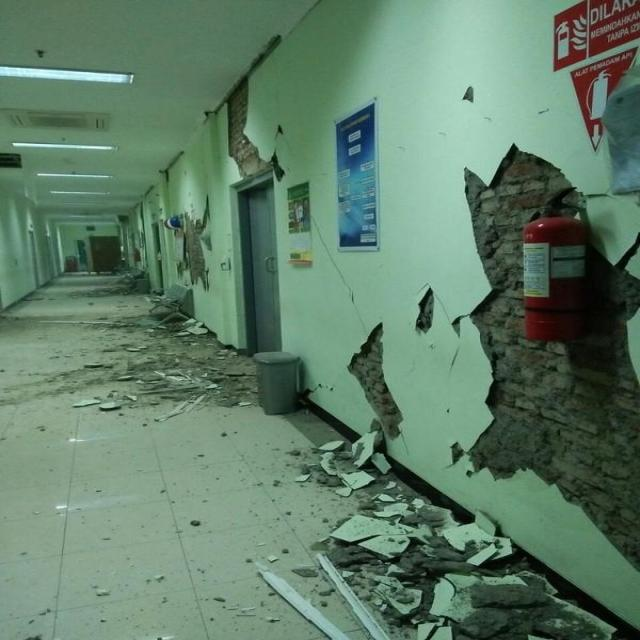damage: (417, 110, 640, 577), (6, 258, 294, 444), (278, 486, 605, 640), (158, 33, 318, 194), (296, 314, 438, 450), (132, 202, 238, 312)
